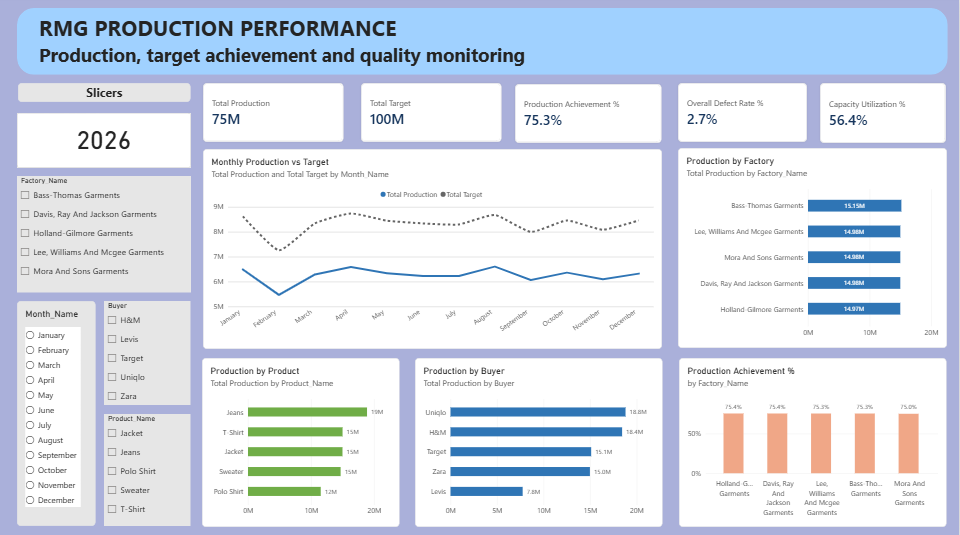

This screenshot's page, from the dashboard's own definition file:
{"tool":"powerbi","page":{"name":"Executive summary","canvas":[1920,1080],"ordinal":0},"visuals":[{"type":"shape","box":[35.3,15.7,1861.5,133.5],"z":0},{"type":"cardVisual","fields":{"Data":["KPI_Measure.Total Production"]},"box":[408.4,166.9,280.8,117.8],"z":1000},{"type":"cardVisual","fields":{"Data":["KPI_Measure.Total Target"]},"box":[724.6,166.9,280.8,117.8],"z":2000},{"type":"cardVisual","fields":{"Data":["KPI_Measure.Production Achievement %"]},"box":[1032.9,168.9,292.6,117.8],"z":3000},{"type":"cardVisual","fields":{"Data":["KPI_Measure.Overall Defect Rate %"]},"box":[1358.8,166.9,258.3,118.3],"z":4000},{"type":"textbox","box":[79.2,25,1758.3,116.7],"z":5000},{"type":"cardVisual","fields":{"Data":["KPI_Measure.Capacity Utilization %"]},"box":[1641.7,166.7,251.7,120],"z":6000},{"type":"lineChart","title":"Monthly Production vs Target","fields":{"Category":["dim_date.Month_Name"],"Y":["KPI_Measure.Total Production","KPI_Measure.Total Target"]},"box":[407.5,297.5,917.5,400],"z":7000},{"type":"listSlicer","fields":{"Values":["dim_date.Month_Name"]},"box":[35.3,602.8,157.1,449.7],"z":8000},{"type":"clusteredBarChart","title":"Production by Factory","fields":{"Category":["dim_factory.Factory_Name"],"Y":["KPI_Measure.Total Production"]},"box":[1358.3,295.8,537.5,400],"z":9000},{"type":"clusteredColumnChart","fields":{"Category":["dim_factory.Factory_Name"],"Y":["KPI_Measure.Production Achievement %"]},"box":[1360,715,535,337.5],"z":10000},{"type":"clusteredBarChart","title":"Production by Product","fields":{"Category":["dim_product.Product_Name"],"Y":["KPI_Measure.Total Production"]},"box":[405,715,395,337.5],"z":11000},{"type":"clusteredBarChart","title":"Production by Buyer","fields":{"Category":["dim_product.Buyer"],"Y":["KPI_Measure.Total Production"]},"box":[832.5,715,495,337.5],"z":12000},{"type":"slicer","fields":{"Values":["dim_factory.Factory_Name"]},"box":[35.3,351.5,347.5,232.5],"z":13000},{"type":"slicer","fields":{"Values":["dim_product.Product_Name"]},"box":[210.1,828.7,172.8,223.9],"z":14000},{"type":"slicer","fields":{"Values":["dim_product.Buyer"]},"box":[210.1,602.8,172.8,208.1],"z":15000},{"type":"advancedSlicerVisual","fields":{"Values":["dim_date.Year"]},"box":[35.3,225.8,347.6,110],"z":16000},{"type":"textbox","box":[37.3,166.9,345,37.5],"z":17000}]}

Visuals, with their boxes in screenshot pixels (x1, y1, x2, y2), scaled from the page's 1920x1080 canvas onto the 960x535 screenshot:
shape: 18:8:948:74
cardVisual - KPI_Measure.Total Production: 204:83:345:141
cardVisual - KPI_Measure.Total Target: 362:83:503:141
cardVisual - KPI_Measure.Production Achievement %: 516:84:663:142
cardVisual - KPI_Measure.Overall Defect Rate %: 679:83:809:141
textbox: 40:12:919:70
cardVisual - KPI_Measure.Capacity Utilization %: 821:83:947:142
"Monthly Production vs Target" lineChart: 204:147:662:346
listSlicer - dim_date.Month_Name: 18:299:96:521
"Production by Factory" clusteredBarChart: 679:147:948:345
clusteredColumnChart - dim_factory.Factory_Name x KPI_Measure.Production Achievement %: 680:354:948:521
"Production by Product" clusteredBarChart: 202:354:400:521
"Production by Buyer" clusteredBarChart: 416:354:664:521
slicer - dim_factory.Factory_Name: 18:174:191:289
slicer - dim_product.Product_Name: 105:411:191:521
slicer - dim_product.Buyer: 105:299:191:402
advancedSlicerVisual - dim_date.Year: 18:112:191:166
textbox: 19:83:191:101
